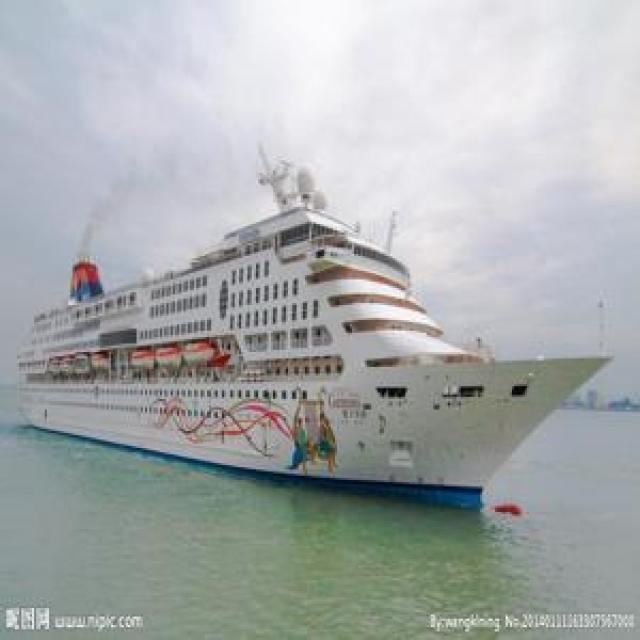passenger ship: (22, 183, 619, 512)
